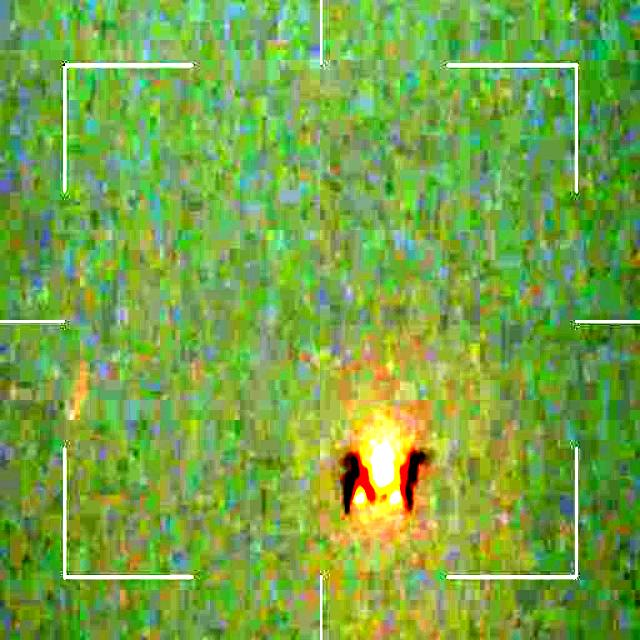bird: (339, 435, 426, 512)
